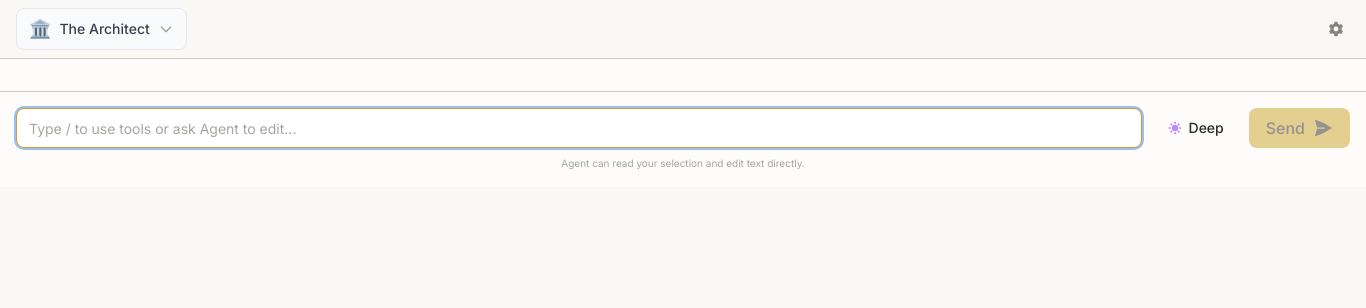
ChatInterface › shows the AIError message when an AIError is thrown
This screenshot has width=1366, height=308.
In the field with placeholder "Type / to use tools or ask Agent to edit...": (579, 128) [16,108,1142,148], type "Crash it"
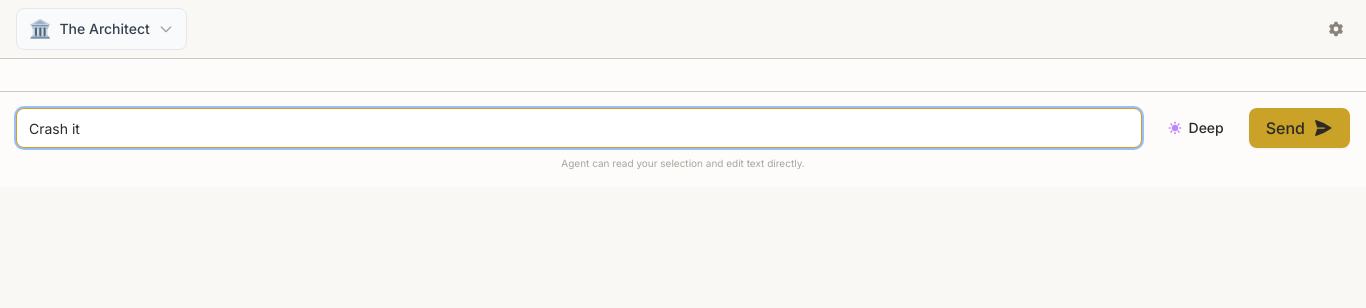
Press Enter in the field with placeholder "Type / to use tools or ask Agent to edit...", box [16,108,1142,148]
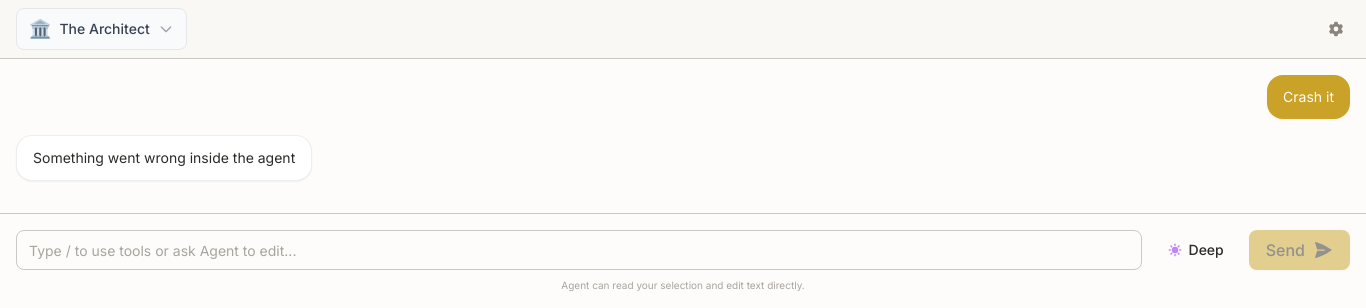
Result: the text "Something went wrong inside the agent" is shown at [16,135,312,181]
